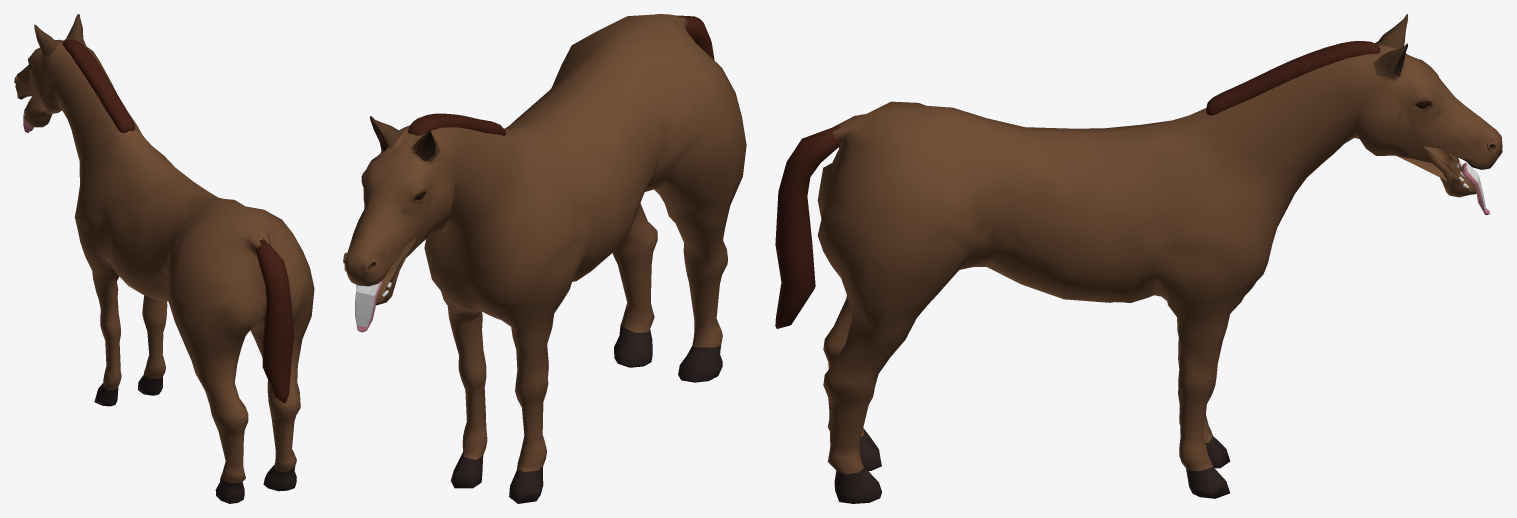
The model's file is TongueHorsev5.fbx.
3 renders of one model, left to right at view 1: azimuth 30°, elevation 25°; view 2: azimuth 150°, elevation 25°; view 3: azimuth 270°, elevation 25°, orthographic. The views are drawn at different scales.
Parts seen in each view (by area): view 1: at; view 2: at; view 3: at.
Part boxes in pixels (x1,y1,x2,y2): at: (14, 14, 314, 503); at: (343, 14, 746, 503); at: (775, 14, 1502, 503).
Bounding box in the file's own units: 83.26 × 201 × 294.
